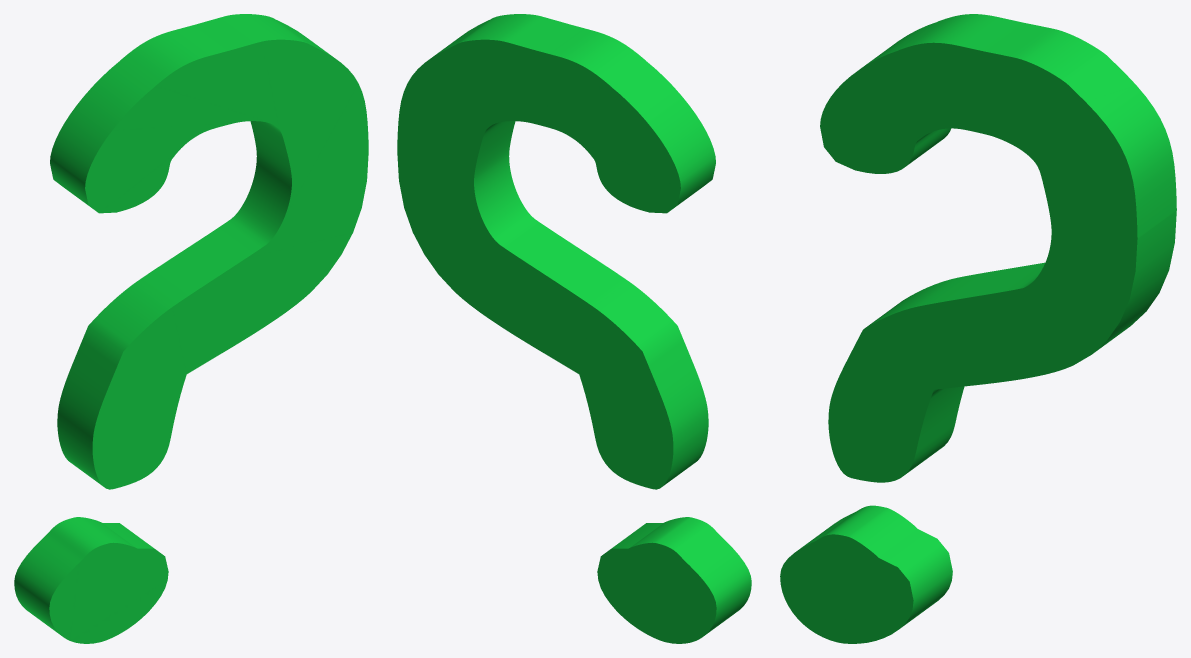
The model's file is questionmark.fbx.
The picture shows the model from 3 angles, left to right: view 1: azimuth 30°, elevation 25°; view 2: azimuth 150°, elevation 25°; view 3: azimuth 330°, elevation 25°; orthographic projection. The views are drawn at different scales.
Parts seen in each view (by area): view 1: node_id228; view 2: node_id228; view 3: node_id228.
Boxes of the visible parts, x1=… form: node_id228: x1=14, y1=14, x2=368, y2=643; node_id228: x1=397, y1=14, x2=751, y2=643; node_id228: x1=780, y1=14, x2=1176, y2=643.
Bounding box in the file's own units: 0.0984 × 0.1652 × 0.0188.
1 material, 1 textured.
